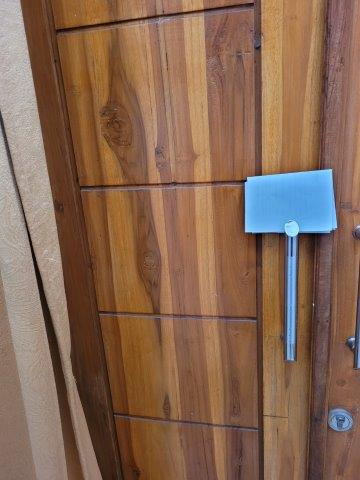kertas: (242, 169, 337, 234)
